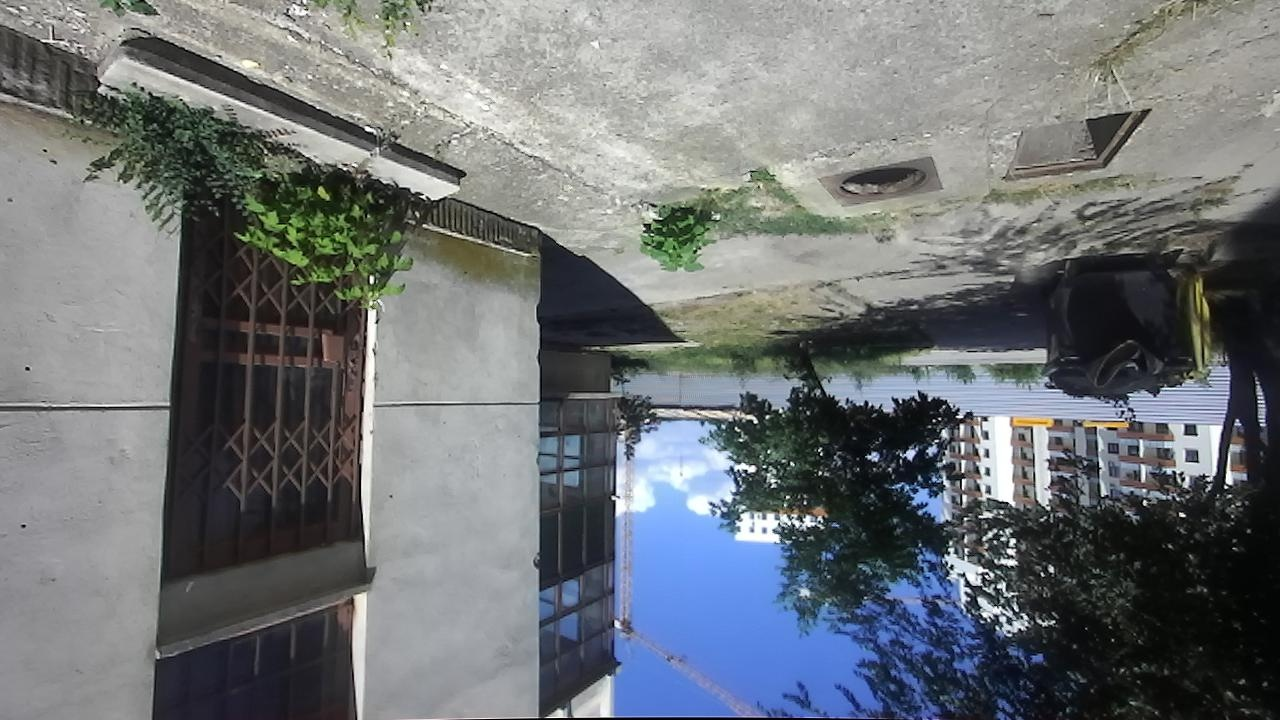drain: (1002, 103, 1159, 183), (830, 162, 934, 204)
